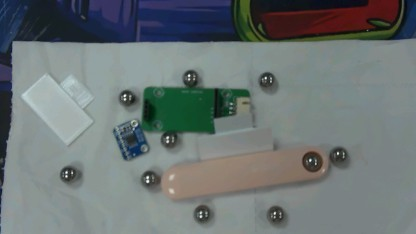ironball: (262, 202, 286, 225), (116, 86, 137, 108), (57, 164, 78, 184), (191, 201, 209, 224), (301, 151, 321, 170), (160, 129, 179, 149), (140, 169, 158, 190), (258, 70, 276, 89), (180, 67, 198, 86), (330, 141, 345, 162)
